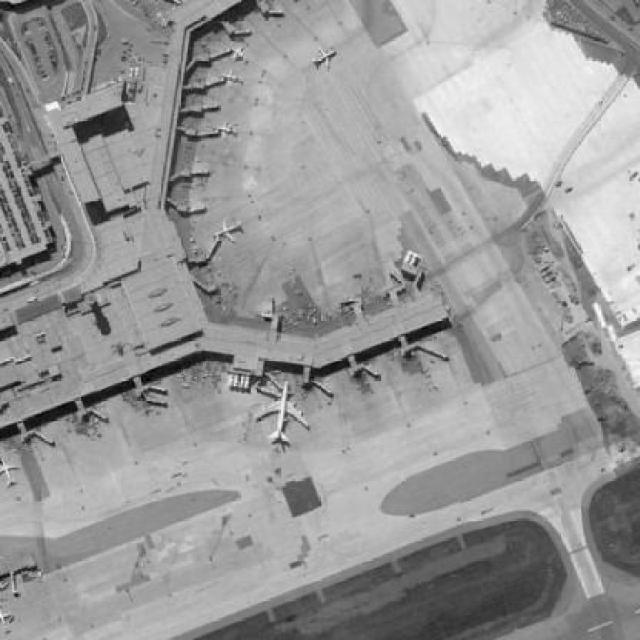airplane: (251, 379, 316, 446), (213, 218, 247, 246), (308, 46, 339, 71), (3, 454, 23, 491), (211, 121, 240, 144), (217, 70, 246, 90), (230, 45, 254, 66), (2, 606, 16, 630)
